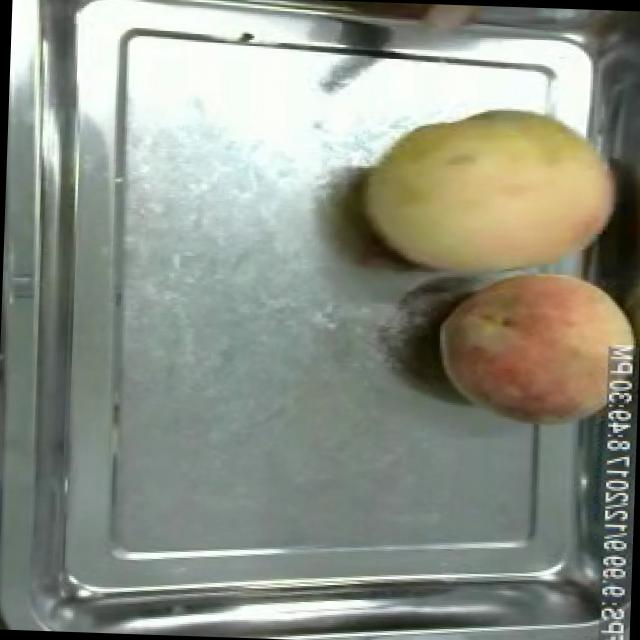Fruit: (343, 89, 633, 299), (422, 256, 640, 435)
